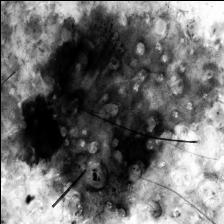Potentially Malignant Skin Tumors: (20, 14, 211, 214)
